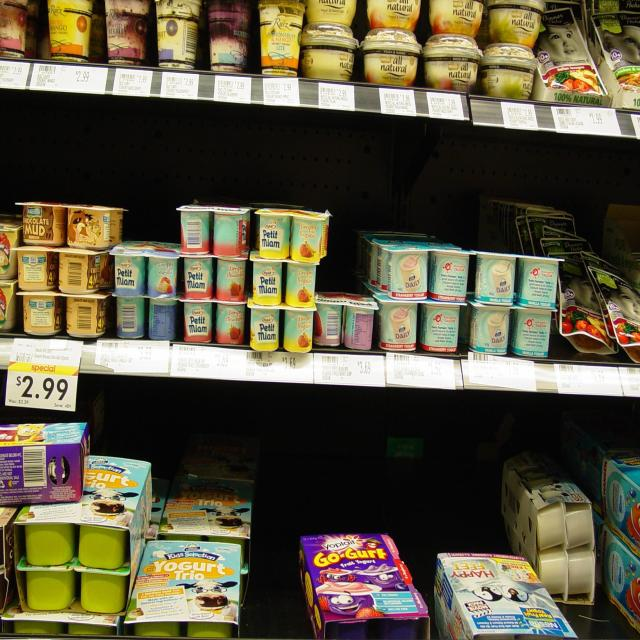empty_space: (310, 416, 487, 524), (260, 462, 288, 640)
